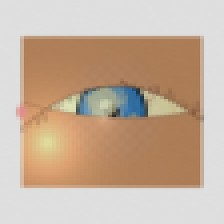corneal_ulcer: (78, 82, 129, 122)
